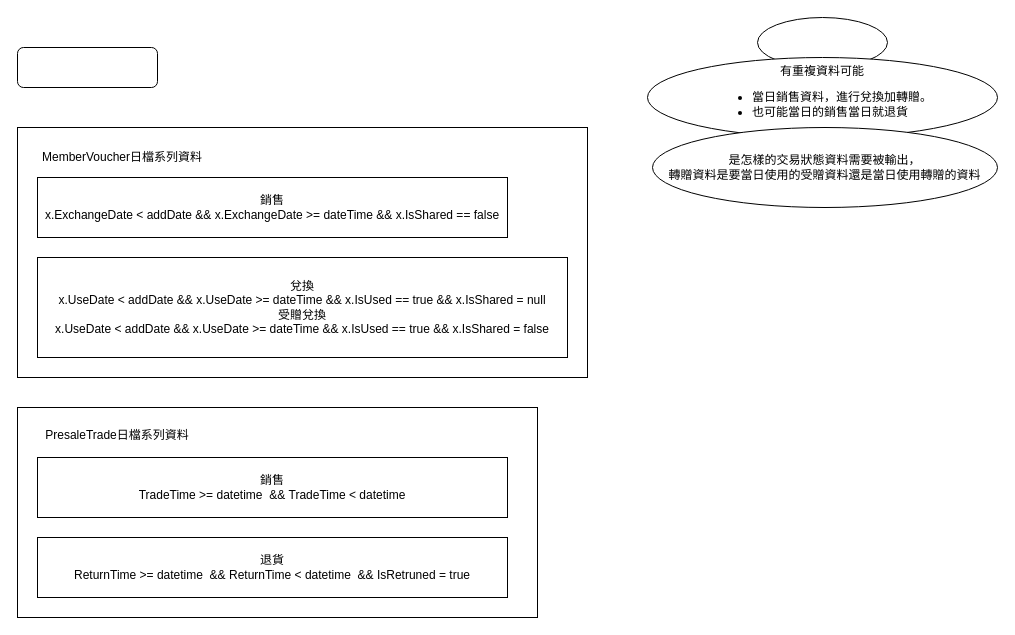
Image size: 1015x635. Some labels were removed from this diagram. The shapes that lost their labels are listed below. From the top down, each one's centre as x and y in pixels, then its label:
At point 822,42: "會有補資料的情況?".
At point 87,67: "資料可以從每日做出來的日檔資料中取得資料".
